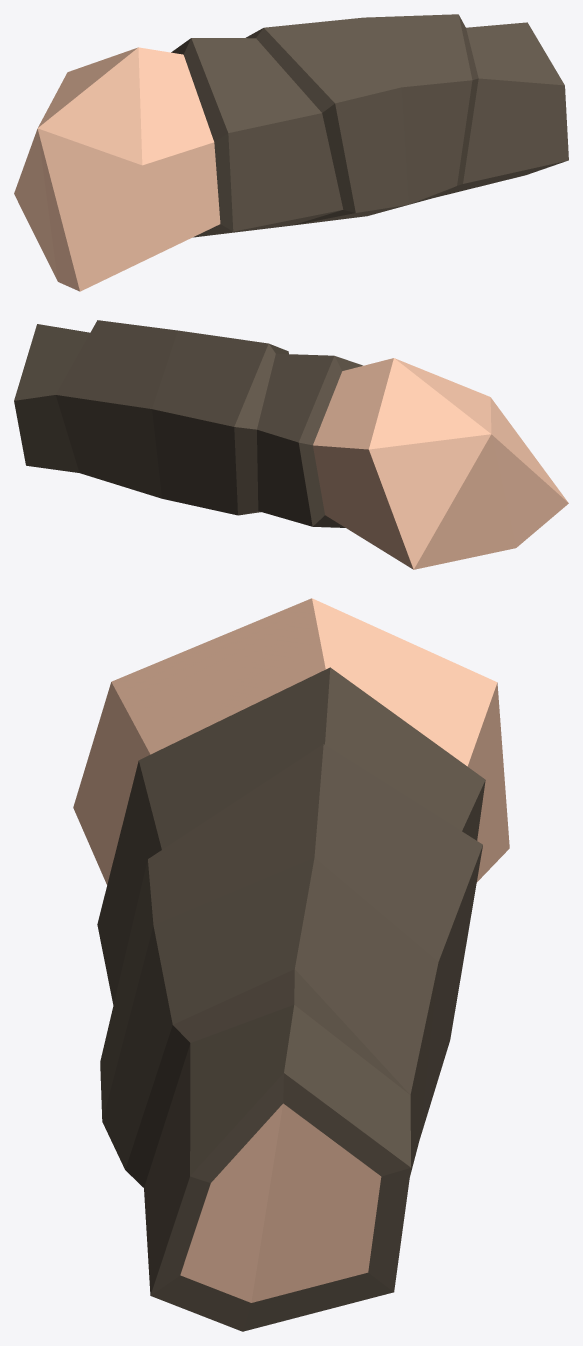
The model's file is Chr_ArmUpperLeft_Female_11_Static.fbx.
3 views of the same model, one above another, from view 1: azimuth 30°, elevation 25°; view 2: azimuth 150°, elevation 25°; view 3: azimuth 270°, elevation 25° (orthographic). The views are drawn at different scales.
Visible parts, largest first — view 1: Chr_ArmUpperLeft_Female_11_Static; view 2: Chr_ArmUpperLeft_Female_11_Static; view 3: Chr_ArmUpperLeft_Female_11_Static.
Boxes of the visible parts, left/top/right/bottom form: Chr_ArmUpperLeft_Female_11_Static: left=14, top=14, right=568, bottom=291; Chr_ArmUpperLeft_Female_11_Static: left=14, top=320, right=568, bottom=569; Chr_ArmUpperLeft_Female_11_Static: left=73, top=598, right=509, bottom=1331.
Bounding box in the file's own units: 0.3535 × 0.1376 × 0.136.
